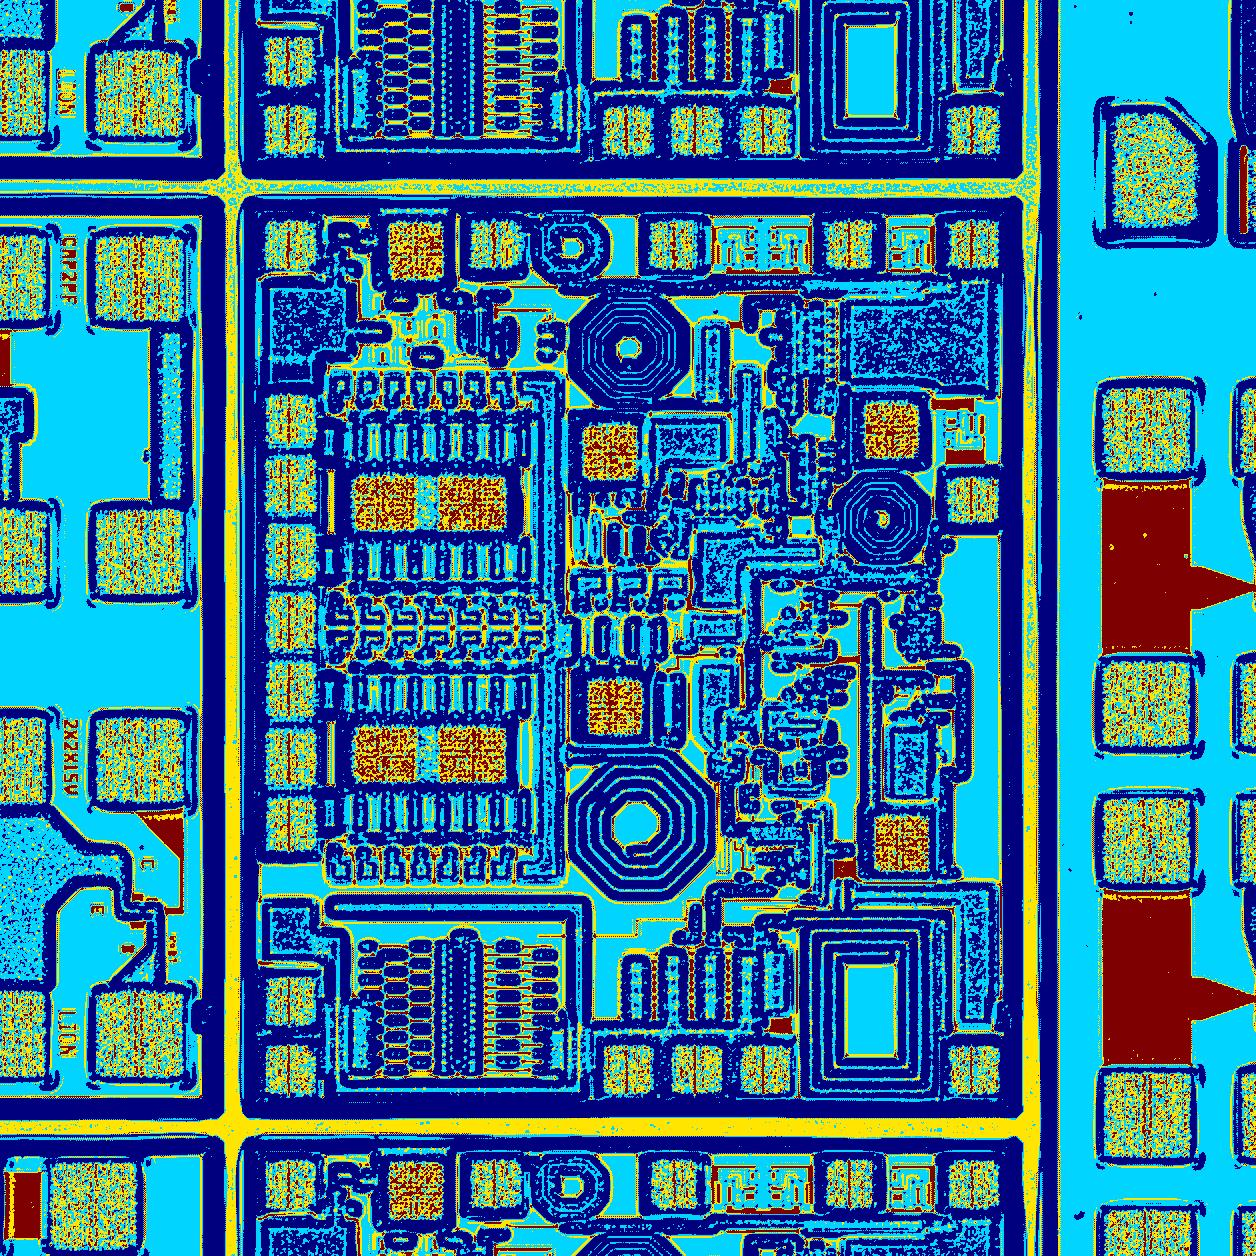Die: (240, 193, 1023, 1116)
Pad 1: (436, 725, 508, 782), (352, 723, 419, 784), (437, 475, 507, 531), (351, 475, 418, 531), (581, 421, 640, 481), (861, 400, 920, 459), (388, 221, 445, 281), (874, 814, 930, 873), (587, 680, 644, 734)
Pad 2: (265, 522, 317, 583), (266, 454, 317, 516), (266, 590, 317, 652), (266, 659, 316, 721), (266, 727, 316, 789), (266, 795, 317, 852), (266, 393, 317, 449), (265, 1044, 317, 1096), (949, 1044, 1001, 1096), (604, 1043, 654, 1095), (740, 1044, 792, 1094), (671, 1044, 723, 1094), (649, 219, 698, 270), (266, 975, 317, 1025), (265, 221, 317, 269), (469, 220, 522, 268), (949, 220, 1000, 269), (825, 220, 873, 269), (947, 477, 1000, 522)
